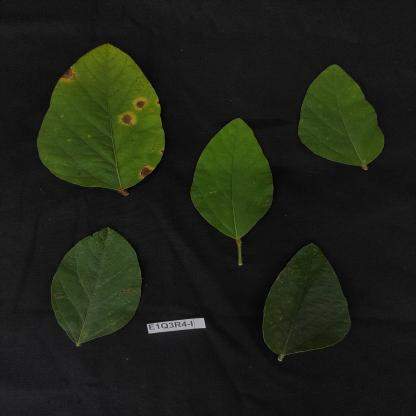label: (143, 313, 217, 338)
leaflets: (34, 36, 174, 208), (40, 222, 142, 355), (257, 242, 358, 372), (290, 65, 400, 184), (184, 115, 284, 241)
